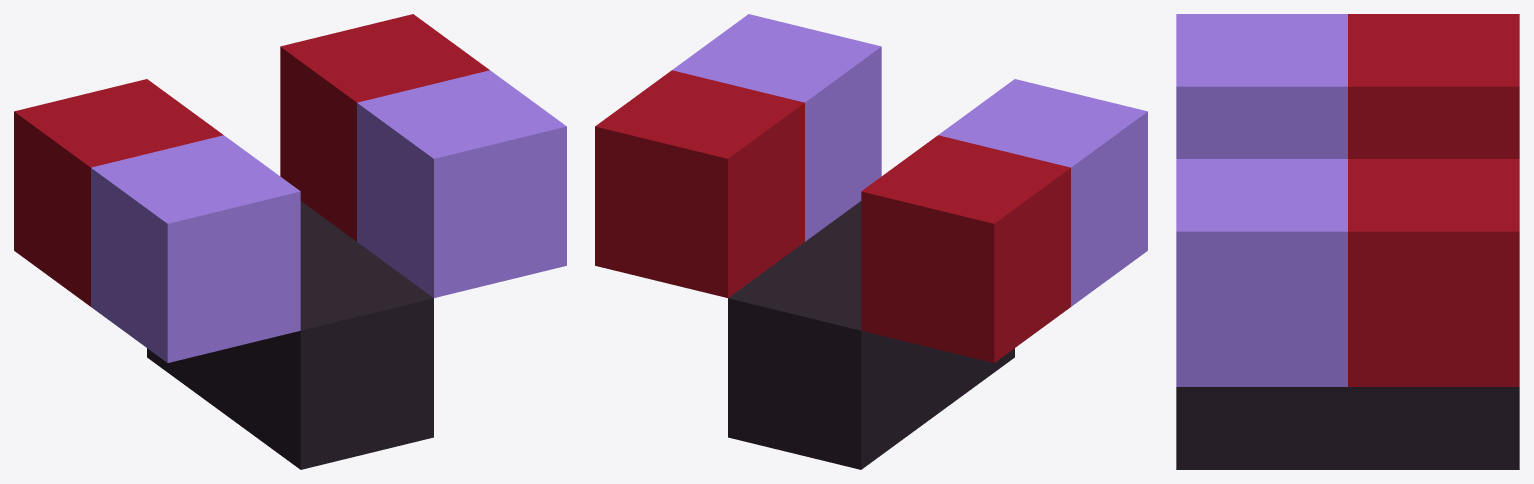
The model's file is LawnModel-2.obj.
The picture shows the model from 3 angles, left to right: view 1: azimuth 30°, elevation 25°; view 2: azimuth 150°, elevation 25°; view 3: azimuth 270°, elevation 25°; orthographic projection. The views are drawn at different scales.
Parts seen in each view (by area): view 1: LawnModel-2; view 2: LawnModel-2; view 3: LawnModel-2.
Boxes of the visible parts, left/top/right/bottom form: LawnModel-2: left=14, top=14, right=566, bottom=469; LawnModel-2: left=595, top=14, right=1147, bottom=469; LawnModel-2: left=1176, top=14, right=1519, bottom=469.
Size of the model in its own units: 3 by 2 by 2.
1 material, 1 textured.
